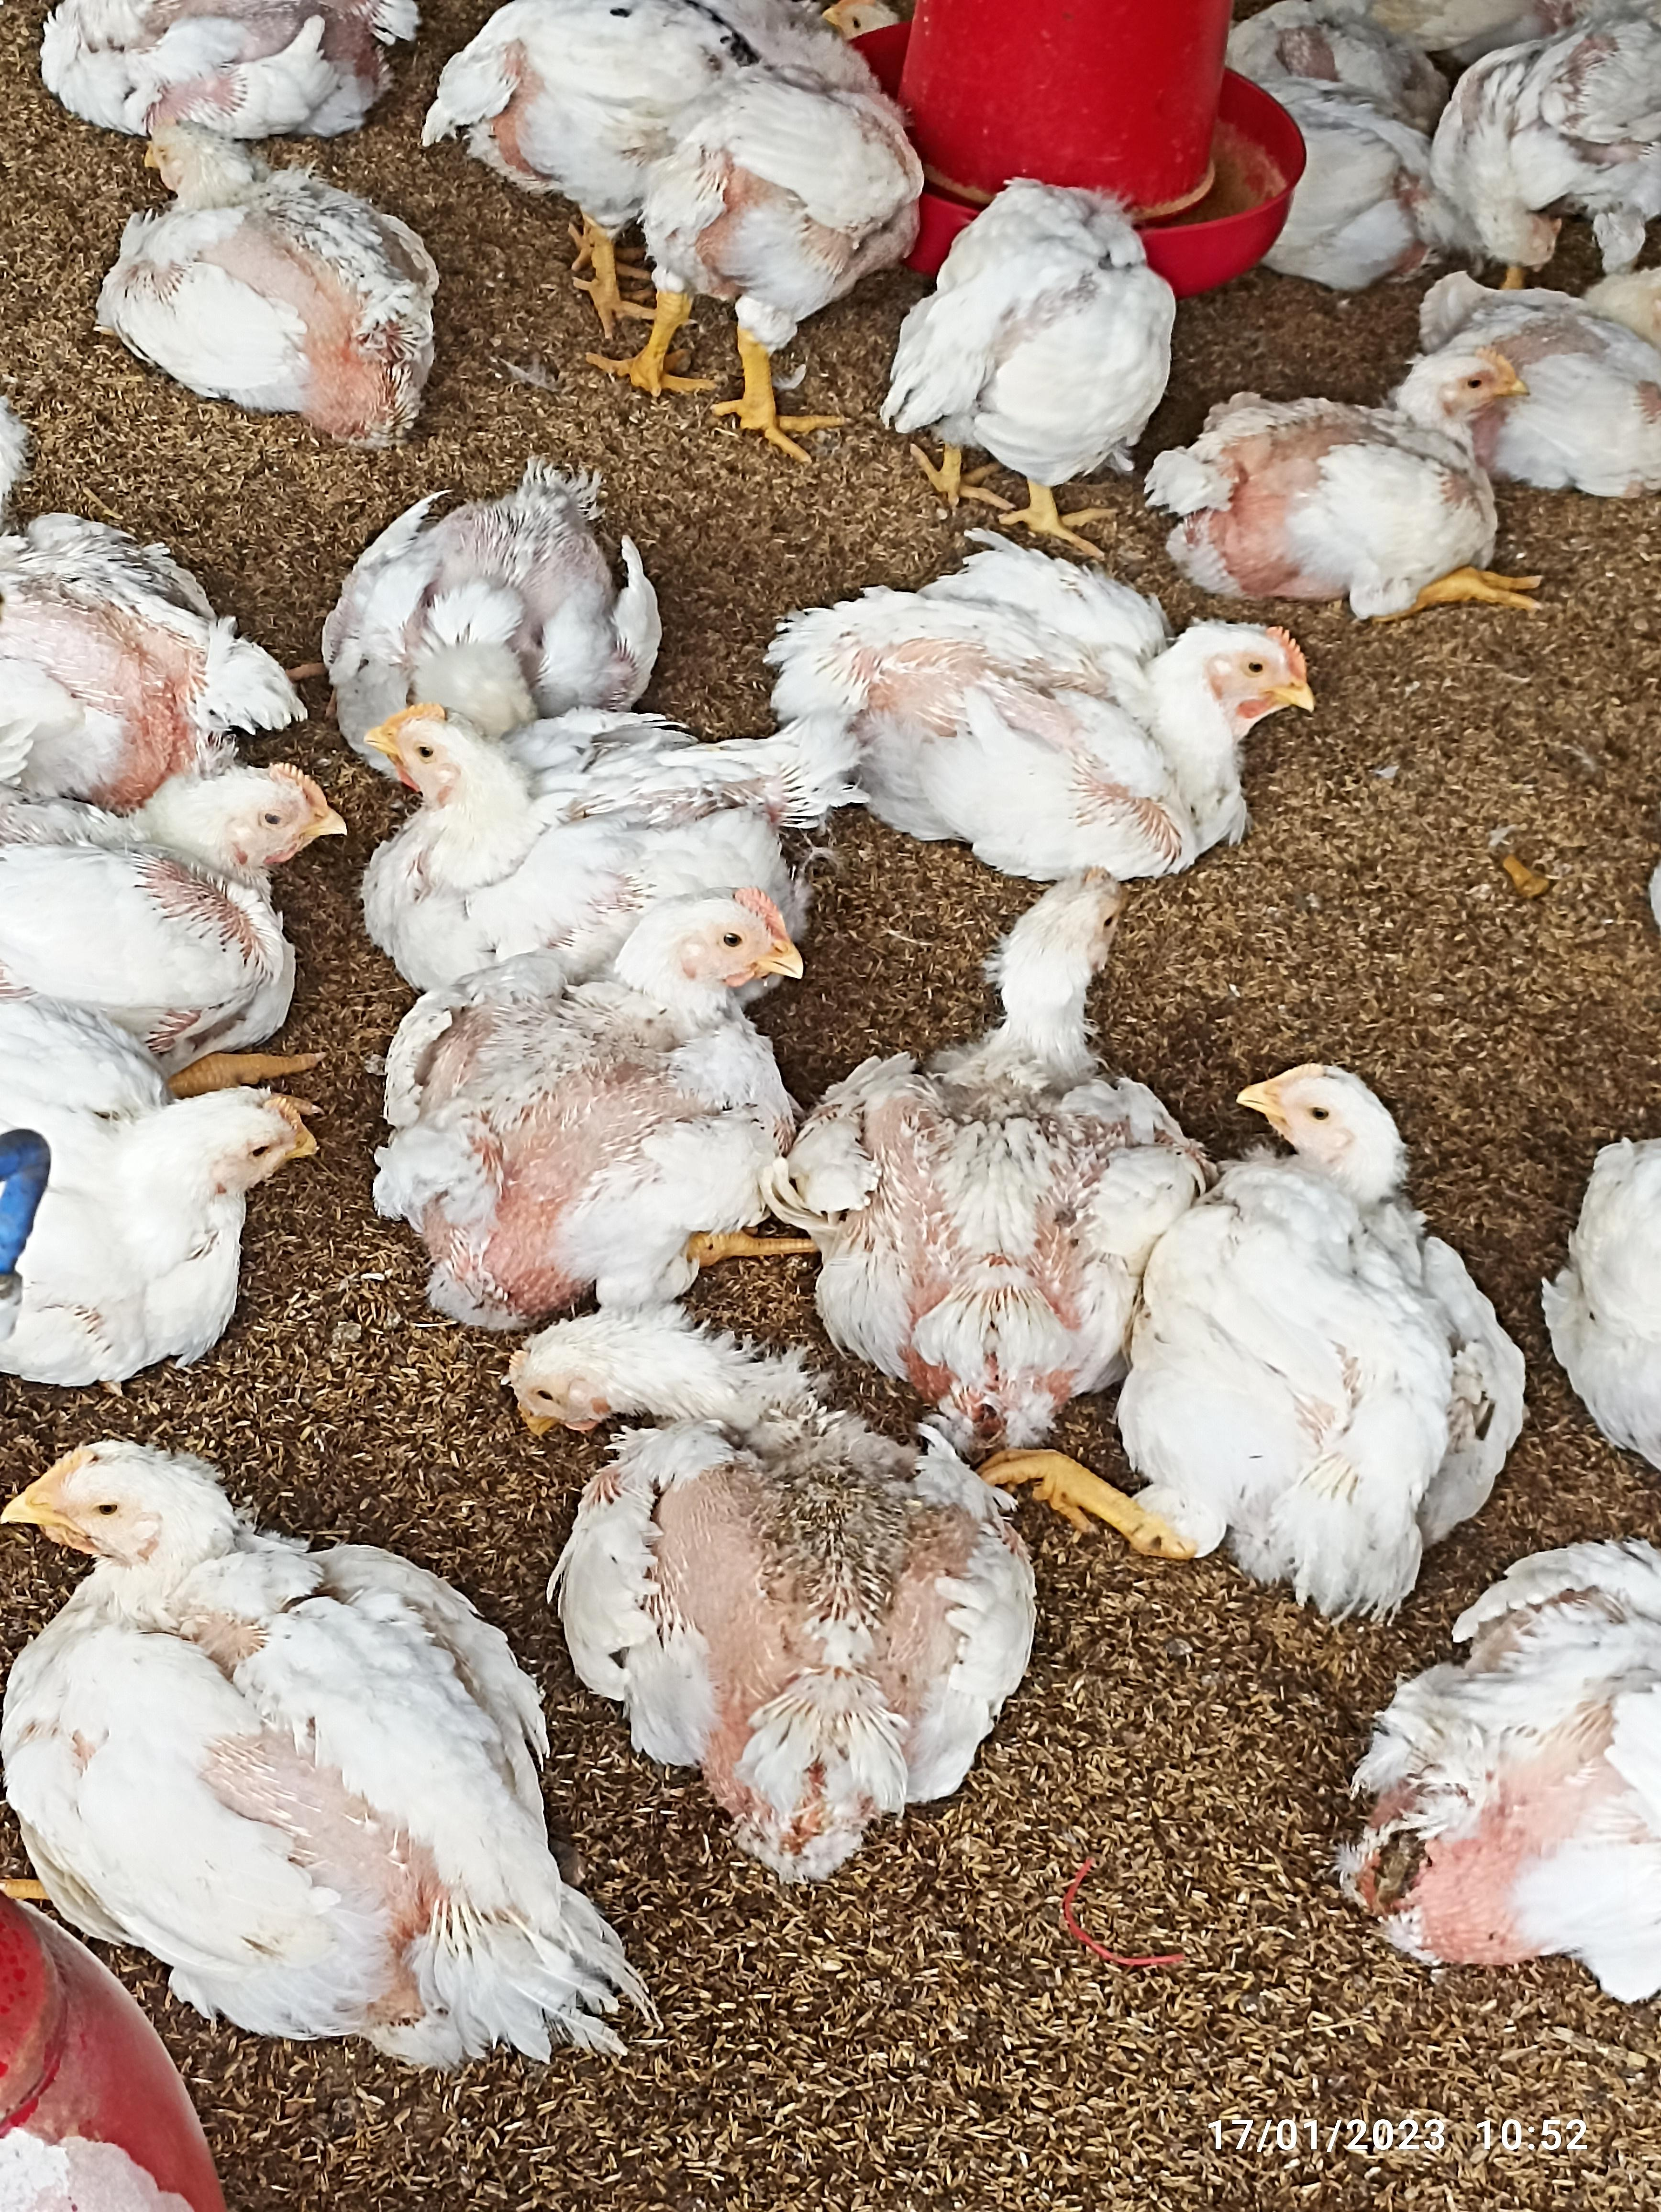Pollos: (5, 1457, 598, 2046), (511, 1319, 1010, 1811), (1111, 1052, 1530, 1568), (832, 850, 1155, 1403), (764, 560, 1321, 877), (396, 911, 808, 1291), (1152, 347, 1553, 618), (106, 126, 443, 434), (333, 466, 689, 755), (637, 14, 869, 422), (0, 762, 352, 1026), (0, 1052, 288, 1359), (363, 705, 775, 904), (919, 185, 1139, 506)
